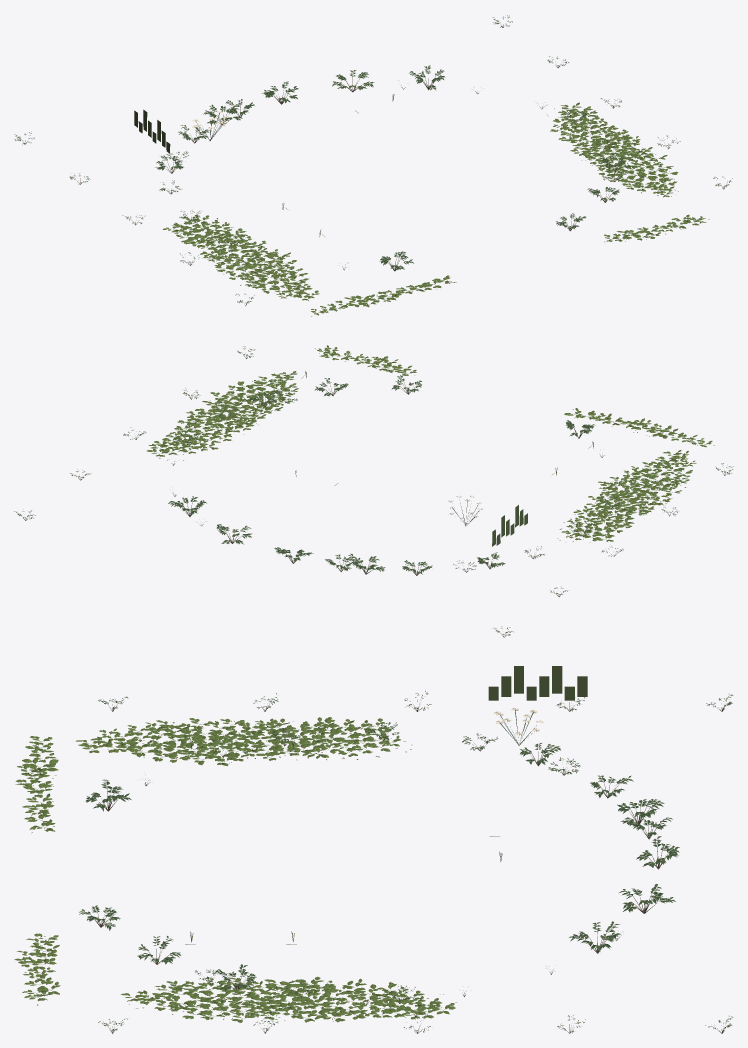
File: qiushuangzhai.glb
The picture shows the model from 3 angles, top to bottom: view 1: azimuth 30°, elevation 25°; view 2: azimuth 150°, elevation 25°; view 3: azimuth 270°, elevation 25°; orthographic projection. The views are drawn at different scales.
Visible parts, largest first — view 1: Mobile_qiushuangzhai_botanical_bamboo, Mobile_qiushuangzhai_plants; view 2: Mobile_qiushuangzhai_botanical_bamboo, Mobile_qiushuangzhai_plants; view 3: Mobile_qiushuangzhai_botanical_bamboo, Mobile_qiushuangzhai_plants, Mobile_qiushuangzhai_botanical_stem.
Part boxes in pixels (<box>): Mobile_qiushuangzhai_botanical_bamboo: <box>163,102,706,315</box>; Mobile_qiushuangzhai_plants: <box>14,15,732,305</box>; Mobile_qiushuangzhai_botanical_bamboo: <box>147,345,712,541</box>; Mobile_qiushuangzhai_plants: <box>14,346,733,637</box>; Mobile_qiushuangzhai_botanical_bamboo: <box>14,717,455,1022</box>; Mobile_qiushuangzhai_plants: <box>79,666,733,1033</box>; Mobile_qiushuangzhai_botanical_stem: <box>25,722,447,1019</box>.
Bounding box in the file's own units: 31.35 × 3.78 × 28.36.
Materials: 4 (3 with a texture image).
